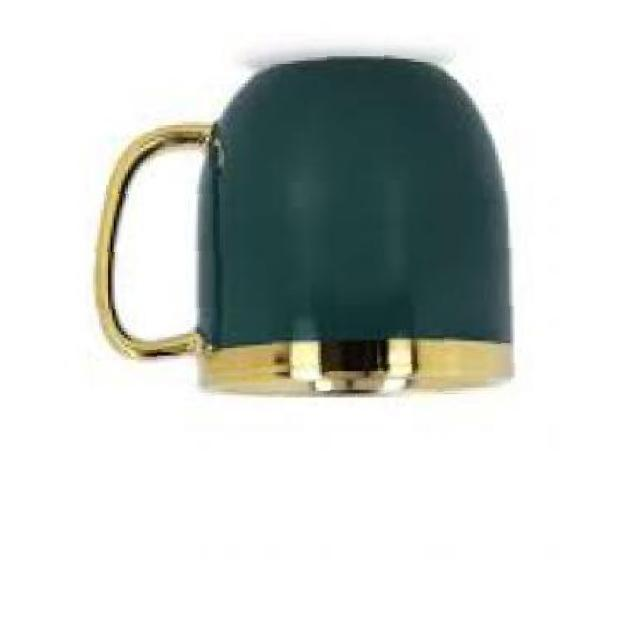cup: (76, 43, 524, 400)
